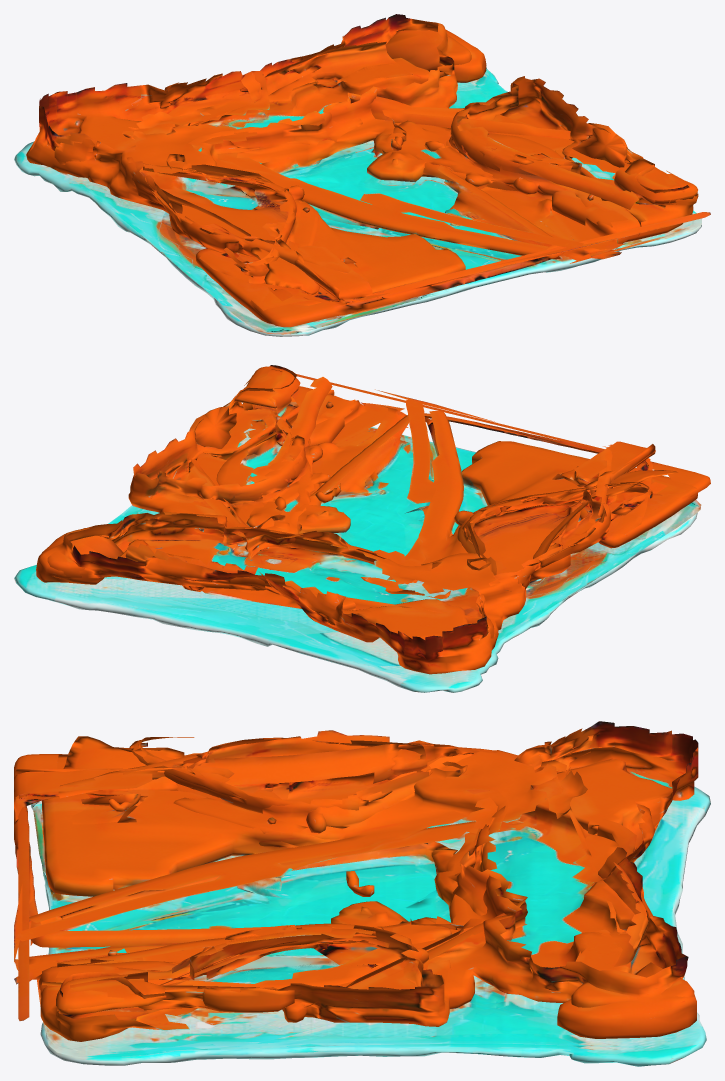
The model's file is salt_river_rock_water_kit.glb.
The picture shows the model from 3 angles, top to bottom: view 1: azimuth 30°, elevation 25°; view 2: azimuth 150°, elevation 25°; view 3: azimuth 270°, elevation 25°; orthographic projection. The views are drawn at different scales.
Size of the model in its own units: 1.91 by 0.227 by 1.95.
Materials: 1 (1 with a texture image).
